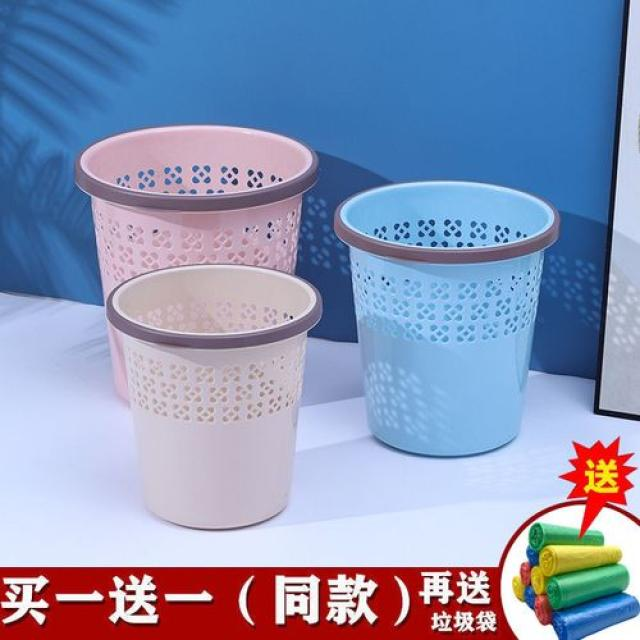dustbin: (70, 119, 324, 411), (331, 174, 568, 466), (100, 257, 330, 533)
